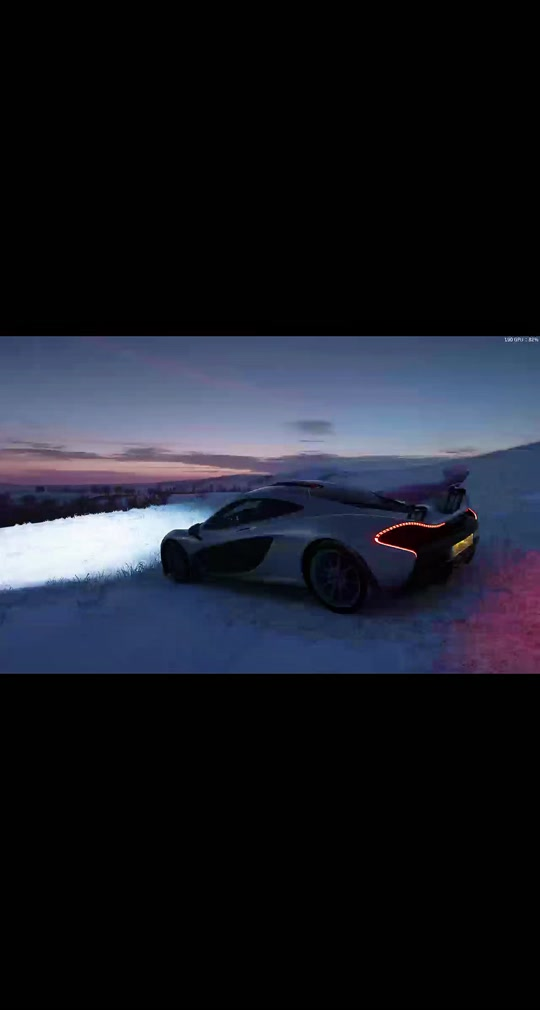other: (173, 475, 478, 599)
